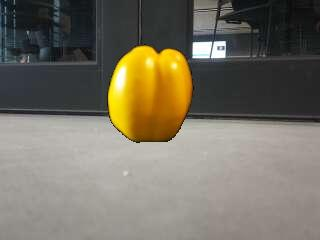Capsicum: (107, 46, 193, 143)
